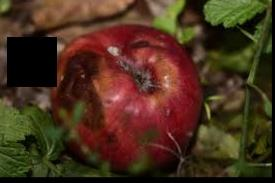rotten apple: (51, 18, 208, 171)
